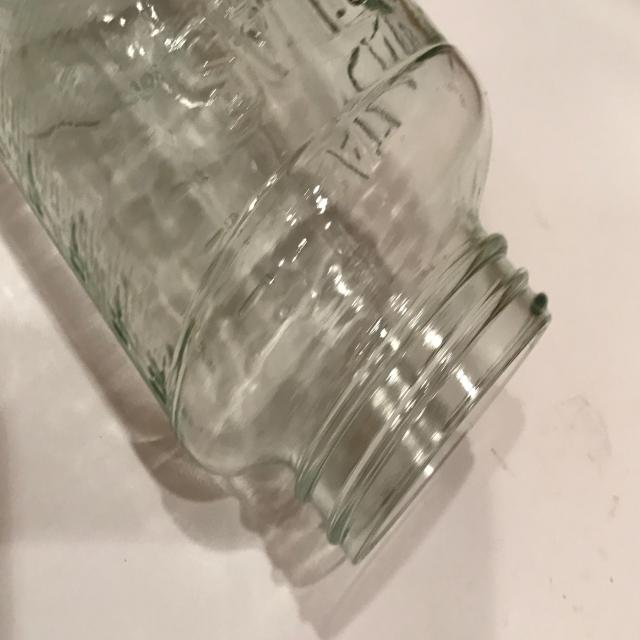glass: (0, 0, 552, 586)
